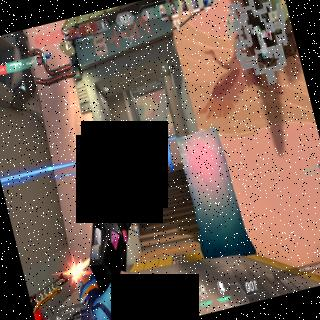ENEMY-HEAD: (158, 156, 162, 161)
